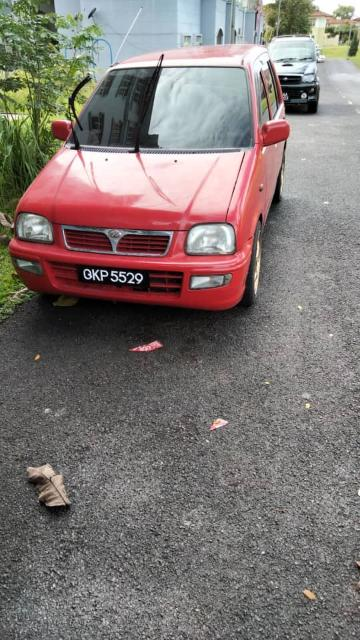License_Plate: (79, 265, 149, 289)
car: (6, 43, 302, 324)
